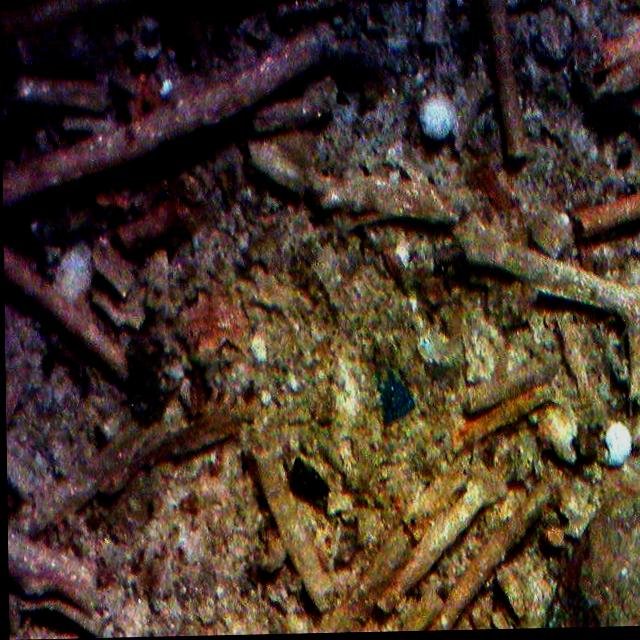microplastic: (365, 366, 415, 427)
